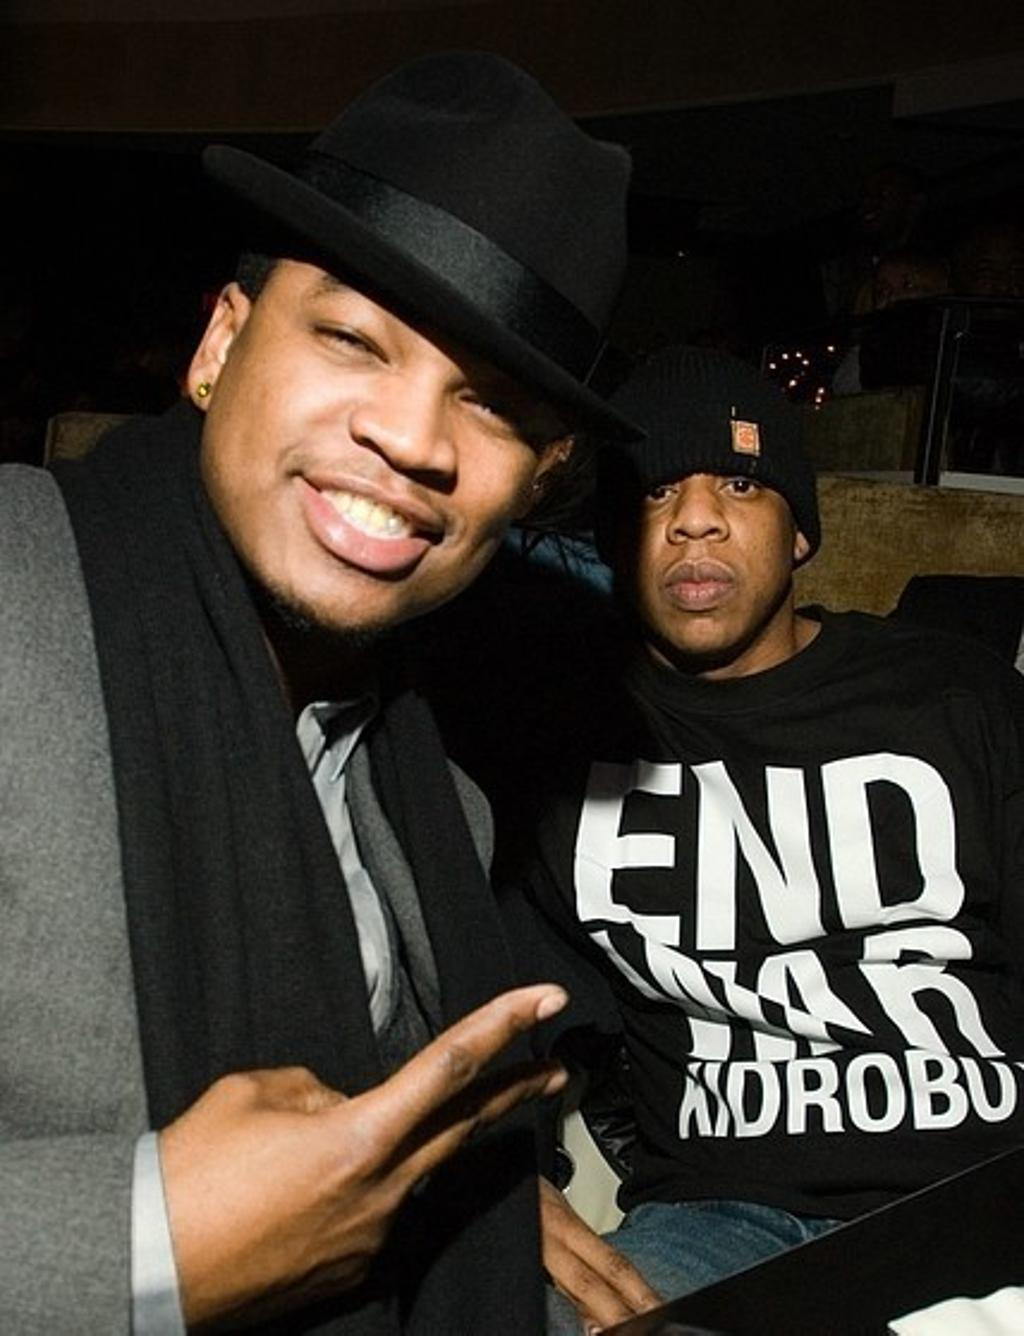face: (235, 211, 550, 628), (615, 438, 800, 652)
